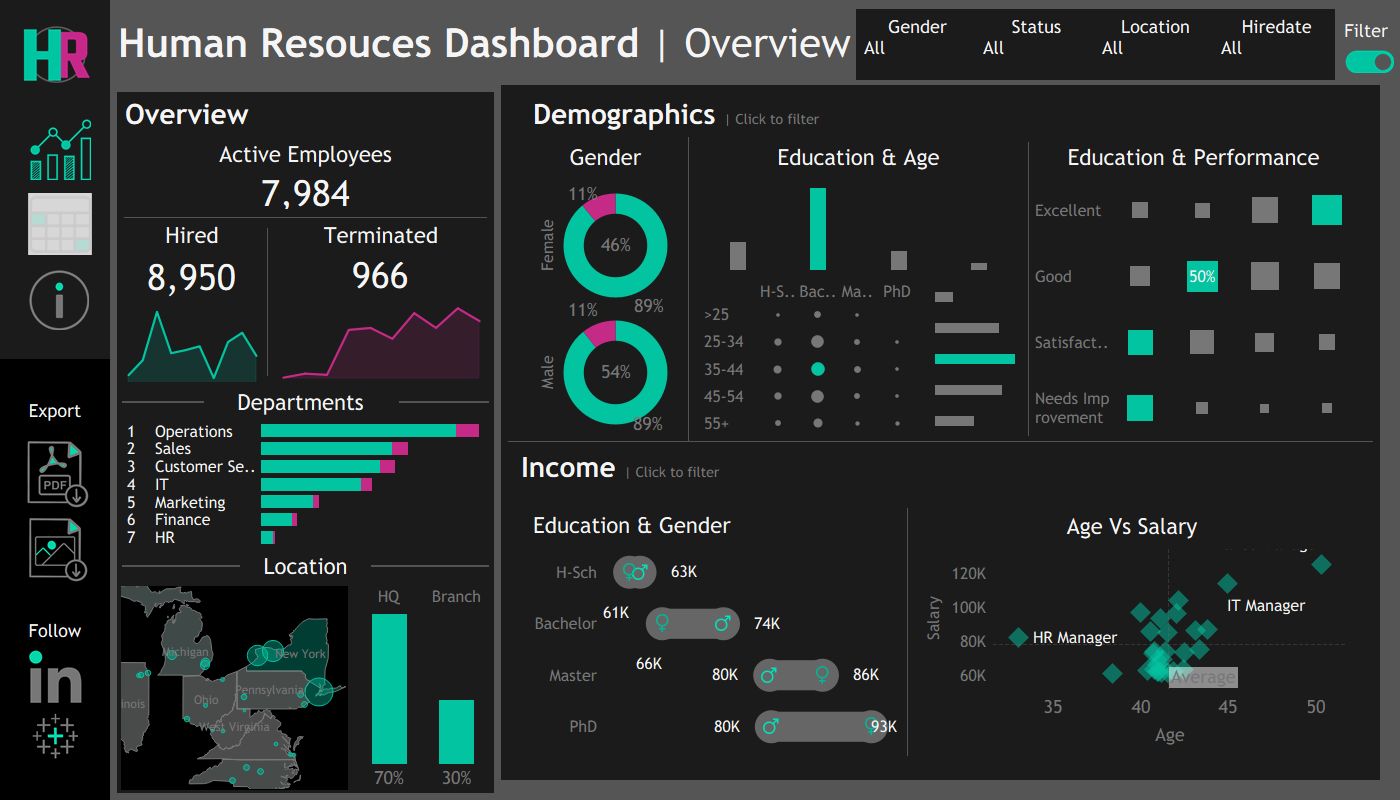

Layout of this report page (visuals, bound fields, positions):
{"tool":"tableau","page":{"name":"HR | Summary","canvas":[1400,800],"ordinal":0},"visuals":[{"type":"blank","box":[0,0,110,359]},{"type":"text","box":[110,0,1270,85]},{"type":"blank","box":[113,0,1288,200]},{"type":"filter","title":"Gender Vs Education Level","param":"[federated.0mbgw1z0hu0rxe1b7xdhf0huze7y].[none:Gender:nk]","box":[858,11,119,67]},{"type":"filter","title":"Gender Vs Education Level","param":"[federated.0mbgw1z0hu0rxe1b7xdhf0huze7y].[none:Calculation_1952029014265503758:n","box":[977,11,119,67]},{"type":"filter","title":"Gender Vs Education Level","param":"[federated.0mbgw1z0hu0rxe1b7xdhf0huze7y].[none:Calculation_1952029013122273285:n","box":[1096,11,119,67]},{"type":"filter","title":"Gender Vs Education Level","param":"[federated.0mbgw1z0hu0rxe1b7xdhf0huze7y].[yr:Hiredate:ok]","box":[1215,11,118,67]},{"type":"text","box":[1314,16,78,30]},{"type":"image","param":"Image/Logo.png","box":[21,25,72,58]},{"type":"dashboard-object","box":[1345,33,49,57]},{"type":"text","box":[117,92,377,45]},{"type":"text","box":[523,92,835,45]},{"type":"dashboard-object","box":[27,119,67,61]},{"type":"text","box":[117,137,377,34]},{"type":"text","box":[523,137,165,40]},{"type":"blank","box":[688,137,1,304]},{"type":"text","box":[689,137,339,40]},{"type":"blank","box":[1028,137,1,304]},{"type":"text","box":[1029,137,329,40]},{"type":"worksheet","title":"BAN Active","mark":"Text","box":[117,171,377,46]},{"type":"worksheet","title":"Gender","mark":"Pie","rows":["Gender"],"cols":["Calculation_1952029013129609223","Calculation_1952029013129609223"],"box":[523,177,165,264]},{"type":"worksheet","title":"Education Level","mark":"Bar","rows":["Calculation_1952029012704751616"],"cols":["Education Level"],"box":[689,177,339,100]},{"type":"worksheet","title":"Education vs Performance","mark":"Square","rows":["Performance Rating"],"cols":["Education Level"],"box":[1029,177,329,264]},{"type":"dashboard-object","box":[28,193,64,62]},{"type":"text","box":[113,200,1288,420]},{"type":"blank","box":[117,217,377,1]},{"type":"text","box":[117,218,150,34]},{"type":"blank","box":[267,218,1,168]},{"type":"text","box":[268,218,226,34]},{"type":"worksheet","title":"BAN Hired","mark":"Text","box":[117,252,150,51]},{"type":"worksheet","title":"BAN Terminated","mark":"Text","box":[268,252,226,47]},{"type":"dashboard-object","box":[24,270,70,60]},{"type":"worksheet","title":"Age vs Education","mark":"Circle","rows":["Calculation_1952029013313384460"],"cols":["Education Level"],"box":[689,277,237,164]},{"type":"worksheet","title":"Age Groups","mark":"Bar","rows":["Calculation_1952029013313384460"],"cols":["Calculation_1952029012704751616"],"box":[926,277,102,164]},{"type":"worksheet","title":"Terminated By Year","mark":"Line","rows":["Calculation_1952029012705345537","Calculation_1952029012705345537"],"cols":["Termdate"],"box":[268,299,226,87]},{"type":"worksheet","title":"Hired By Year","mark":"Line","rows":["Calculation_1952029012704751616","Calculation_1952029012704751616"],"cols":["Hiredate"],"box":[117,303,150,83]},{"type":"blank","box":[0,359,110,36.7]},{"type":"blank","box":[117,386,90,32]},{"type":"text","box":[207,386,187,32]},{"type":"blank","box":[394,386,100,32]},{"type":"text","box":[0,395.7,110,29]},{"type":"worksheet","title":"Departments ","mark":"Bar","rows":["Calculation_1952029013121515524","Department"],"cols":["Calculation_1952029012704751616"],"box":[117,418,377,132]},{"type":"blank","box":[0,424.7,110,10]},{"type":"dashboard-object","box":[0,434.7,110,77]},{"type":"blank","box":[508,441,865,1]},{"type":"text","box":[509,443,863,49]},{"type":"text","box":[525,508,382,34]},{"type":"blank","box":[907,508,1,248]},{"type":"text","box":[908,508,448,37]},{"type":"dashboard-object","box":[0,511.7,110,74]},{"type":"worksheet","title":"Gender Vs Education Level","mark":"Square","rows":["Education Level"],"cols":["Salary","Salary"],"box":[525,542,382,214]},{"type":"worksheet","title":"Age Vs Salary","mark":"Shape","rows":["Salary"],"cols":["Calculation_1952029013312770059"],"box":[908,545,448,211]},{"type":"blank","box":[117,550,128.3,32]},{"type":"text","box":[245.3,550,120.3,32]},{"type":"blank","box":[365.6,550,128.3,32]},{"type":"worksheet","title":"Map States","mark":"Automatic","box":[117,582,234,211]},{"type":"worksheet","title":"Location","mark":"Bar","rows":["Calculation_1952029012704751616"],"cols":["Calculation_1952029013122273285","Calculation1"],"box":[351,582,143,211]},{"type":"blank","box":[0,585.7,110,30]},{"type":"text","box":[0,615.7,110,29]},{"type":"blank","box":[113,620,1288,180]},{"type":"image","param":"Image/contact-linkedin.png","box":[0,644.7,110,64]},{"type":"image","param":"Image/contact-public.png","box":[0,708.7,110,54.7]},{"type":"blank","box":[0,763.3,110,36.7]}]}

Visuals, with their boxes in screenshot pixels (x1, y1, x2, y2), scaled from the page's 1400x800 canvas onto the 1400x800 screenshot:
blank: bbox=[0, 0, 110, 359]
text: bbox=[110, 0, 1380, 85]
blank: bbox=[113, 0, 1399, 200]
"Gender Vs Education Level" filter: bbox=[858, 11, 977, 78]
"Gender Vs Education Level" filter: bbox=[977, 11, 1096, 78]
"Gender Vs Education Level" filter: bbox=[1096, 11, 1215, 78]
"Gender Vs Education Level" filter: bbox=[1215, 11, 1333, 78]
text: bbox=[1314, 16, 1392, 46]
image: bbox=[21, 25, 93, 83]
dashboard-object: bbox=[1345, 33, 1394, 90]
text: bbox=[117, 92, 494, 137]
text: bbox=[523, 92, 1358, 137]
dashboard-object: bbox=[27, 119, 94, 180]
text: bbox=[117, 137, 494, 171]
text: bbox=[523, 137, 688, 177]
blank: bbox=[688, 137, 689, 441]
text: bbox=[689, 137, 1028, 177]
blank: bbox=[1028, 137, 1029, 441]
text: bbox=[1029, 137, 1358, 177]
"BAN Active" worksheet (Text marks): bbox=[117, 171, 494, 217]
"Gender" worksheet (Pie marks): bbox=[523, 177, 688, 441]
"Education Level" worksheet (Bar marks): bbox=[689, 177, 1028, 277]
"Education vs Performance" worksheet (Square marks): bbox=[1029, 177, 1358, 441]
dashboard-object: bbox=[28, 193, 92, 255]
text: bbox=[113, 200, 1399, 620]
blank: bbox=[117, 217, 494, 218]
text: bbox=[117, 218, 267, 252]
blank: bbox=[267, 218, 268, 386]
text: bbox=[268, 218, 494, 252]
"BAN Hired" worksheet (Text marks): bbox=[117, 252, 267, 303]
"BAN Terminated" worksheet (Text marks): bbox=[268, 252, 494, 299]
dashboard-object: bbox=[24, 270, 94, 330]
"Age vs Education" worksheet (Circle marks): bbox=[689, 277, 926, 441]
"Age Groups" worksheet (Bar marks): bbox=[926, 277, 1028, 441]
"Terminated By Year" worksheet (Line marks): bbox=[268, 299, 494, 386]
"Hired By Year" worksheet (Line marks): bbox=[117, 303, 267, 386]
blank: bbox=[0, 359, 110, 396]
blank: bbox=[117, 386, 207, 418]
text: bbox=[207, 386, 394, 418]
blank: bbox=[394, 386, 494, 418]
text: bbox=[0, 396, 110, 425]
"Departments " worksheet (Bar marks): bbox=[117, 418, 494, 550]
blank: bbox=[0, 425, 110, 435]
dashboard-object: bbox=[0, 435, 110, 512]
blank: bbox=[508, 441, 1373, 442]
text: bbox=[509, 443, 1372, 492]
text: bbox=[525, 508, 907, 542]
blank: bbox=[907, 508, 908, 756]
text: bbox=[908, 508, 1356, 545]
dashboard-object: bbox=[0, 512, 110, 586]
"Gender Vs Education Level" worksheet (Square marks): bbox=[525, 542, 907, 756]
"Age Vs Salary" worksheet (Shape marks): bbox=[908, 545, 1356, 756]
blank: bbox=[117, 550, 245, 582]
text: bbox=[245, 550, 366, 582]
blank: bbox=[366, 550, 494, 582]
"Map States" worksheet: bbox=[117, 582, 351, 793]
"Location" worksheet (Bar marks): bbox=[351, 582, 494, 793]
blank: bbox=[0, 586, 110, 616]
text: bbox=[0, 616, 110, 645]
blank: bbox=[113, 620, 1399, 799]
image: bbox=[0, 645, 110, 709]
image: bbox=[0, 709, 110, 763]
blank: bbox=[0, 763, 110, 799]
